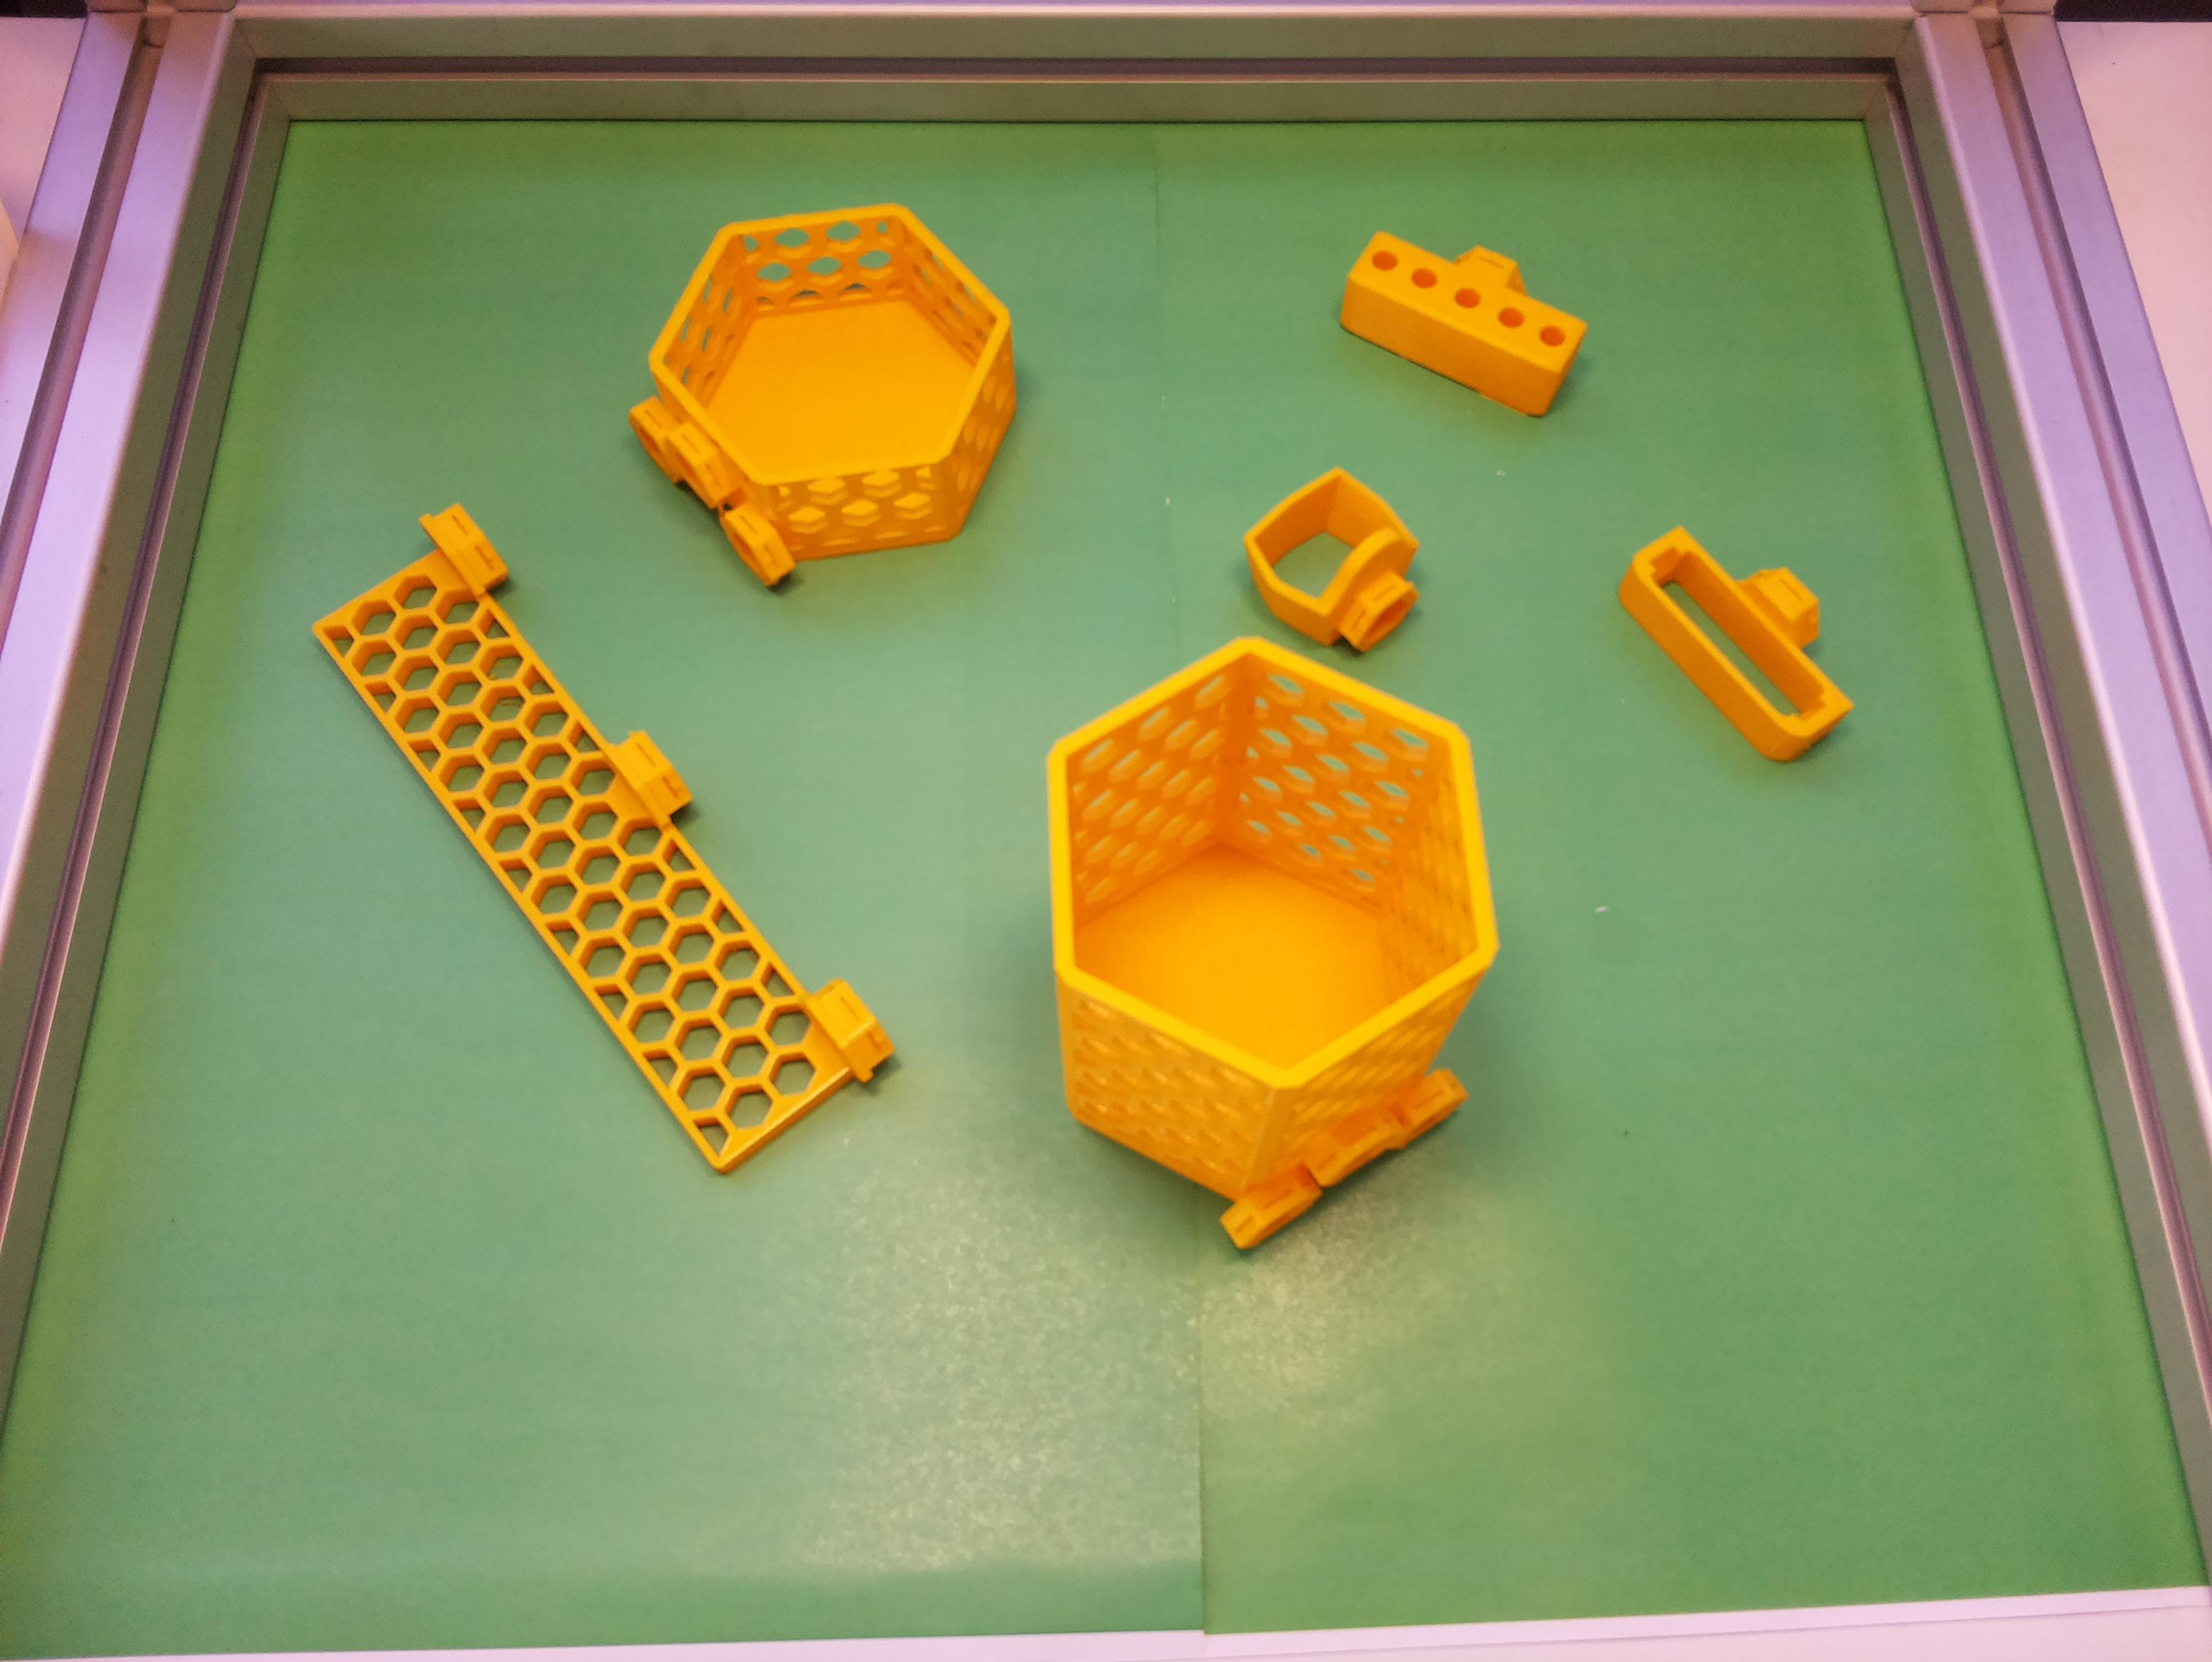bit_holder: (1325, 194, 1603, 433)
bottle_holder: (569, 122, 1096, 651)
cup_holder: (1004, 608, 1536, 1271)
cutter_holder: (1601, 485, 1891, 777)
scissor_holder: (1219, 449, 1453, 684)
tool_holder: (281, 494, 904, 1191)
